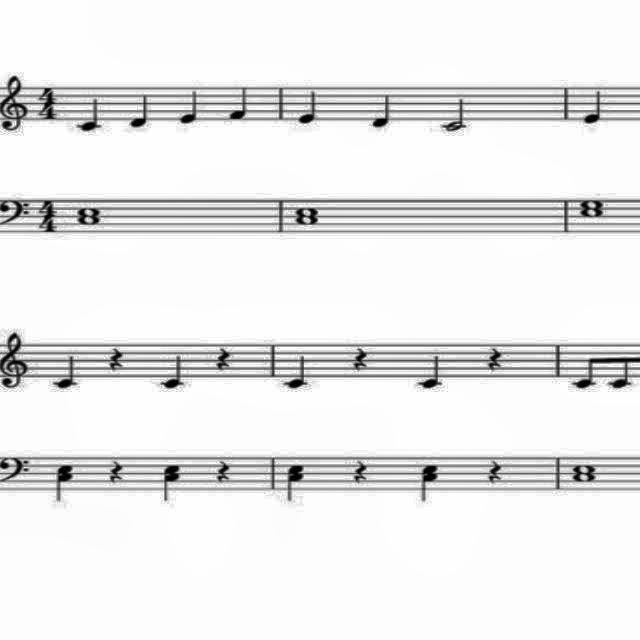Bass-clef: (0, 191, 32, 238), (0, 452, 34, 496)
Eighth-note: (566, 346, 602, 396), (606, 336, 634, 396)
Half-note: (436, 94, 474, 136)
Quarter-note: (276, 348, 316, 392), (47, 348, 81, 397), (416, 351, 452, 394), (72, 96, 106, 140), (224, 80, 252, 124), (158, 352, 188, 392), (368, 91, 397, 132), (126, 91, 156, 129), (176, 88, 204, 126), (294, 89, 322, 127), (580, 88, 608, 126)
Quarter-rest: (348, 454, 376, 486), (482, 452, 510, 484), (212, 346, 240, 376), (100, 344, 128, 372), (102, 456, 130, 484), (351, 342, 373, 376), (213, 455, 235, 489), (487, 345, 508, 375)
Treble-clef: (0, 68, 32, 138), (0, 328, 30, 399)
